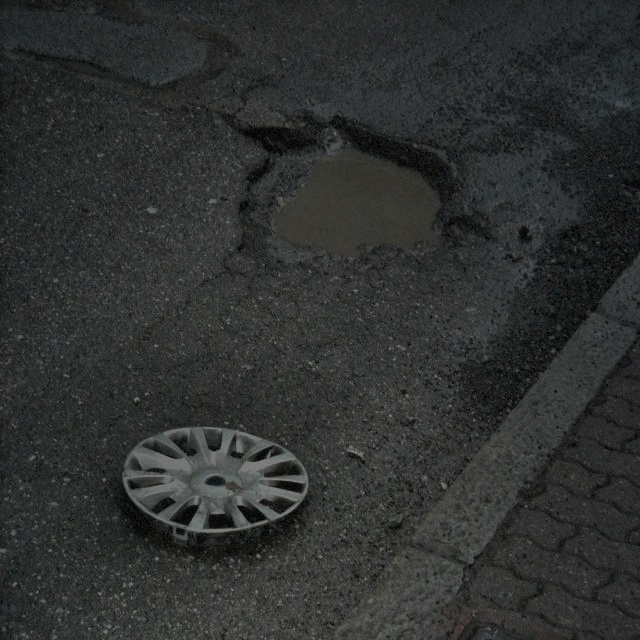pothole: (237, 109, 457, 270)
